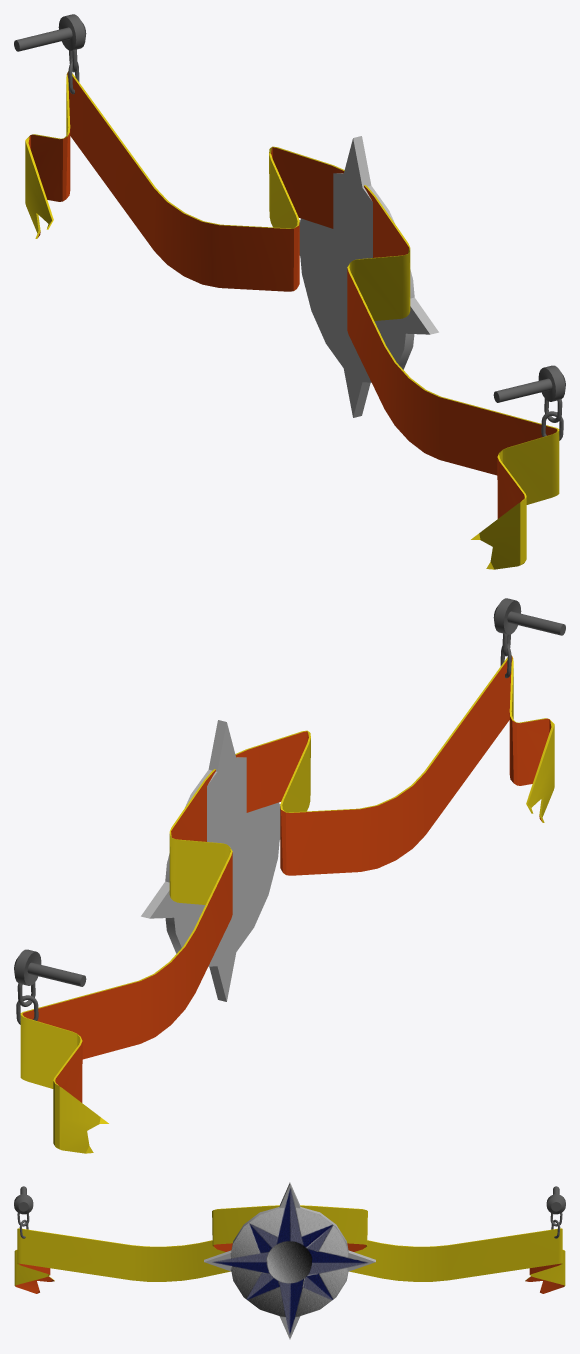
The model's file is SM_banner_windrose.fbx.
3 renders of one model, top to bottom at view 1: azimuth 30°, elevation 25°; view 2: azimuth 150°, elevation 25°; view 3: azimuth 270°, elevation 25°, orthographic. The views are drawn at different scales.
Parts seen in each view (by area): view 1: SM_banner_windrose; view 2: SM_banner_windrose; view 3: SM_banner_windrose.
Boxes of the visible parts, bbox=[...] form: SM_banner_windrose: bbox=[14, 14, 565, 569]; SM_banner_windrose: bbox=[14, 598, 565, 1153]; SM_banner_windrose: bbox=[14, 1182, 565, 1339].
Size of the model in its own units: 58.5 by 149 by 479.
